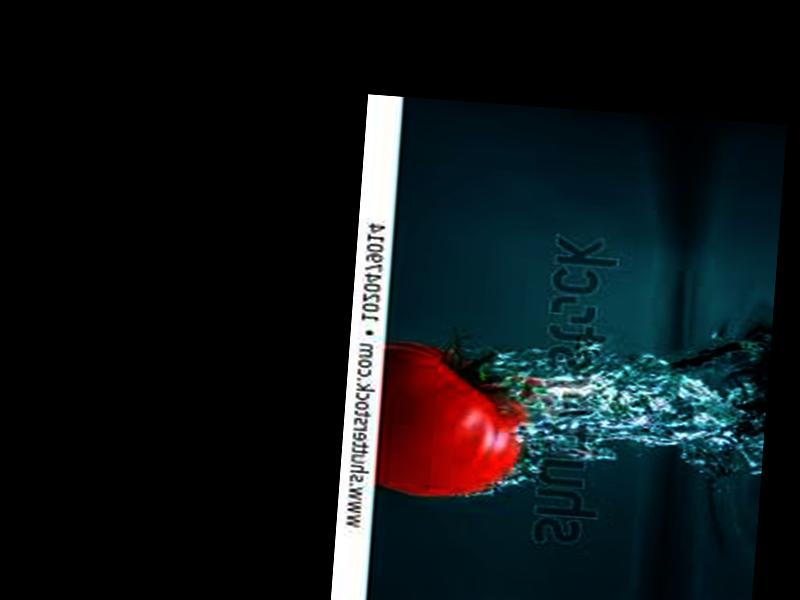Tomato: (374, 339, 529, 502)
